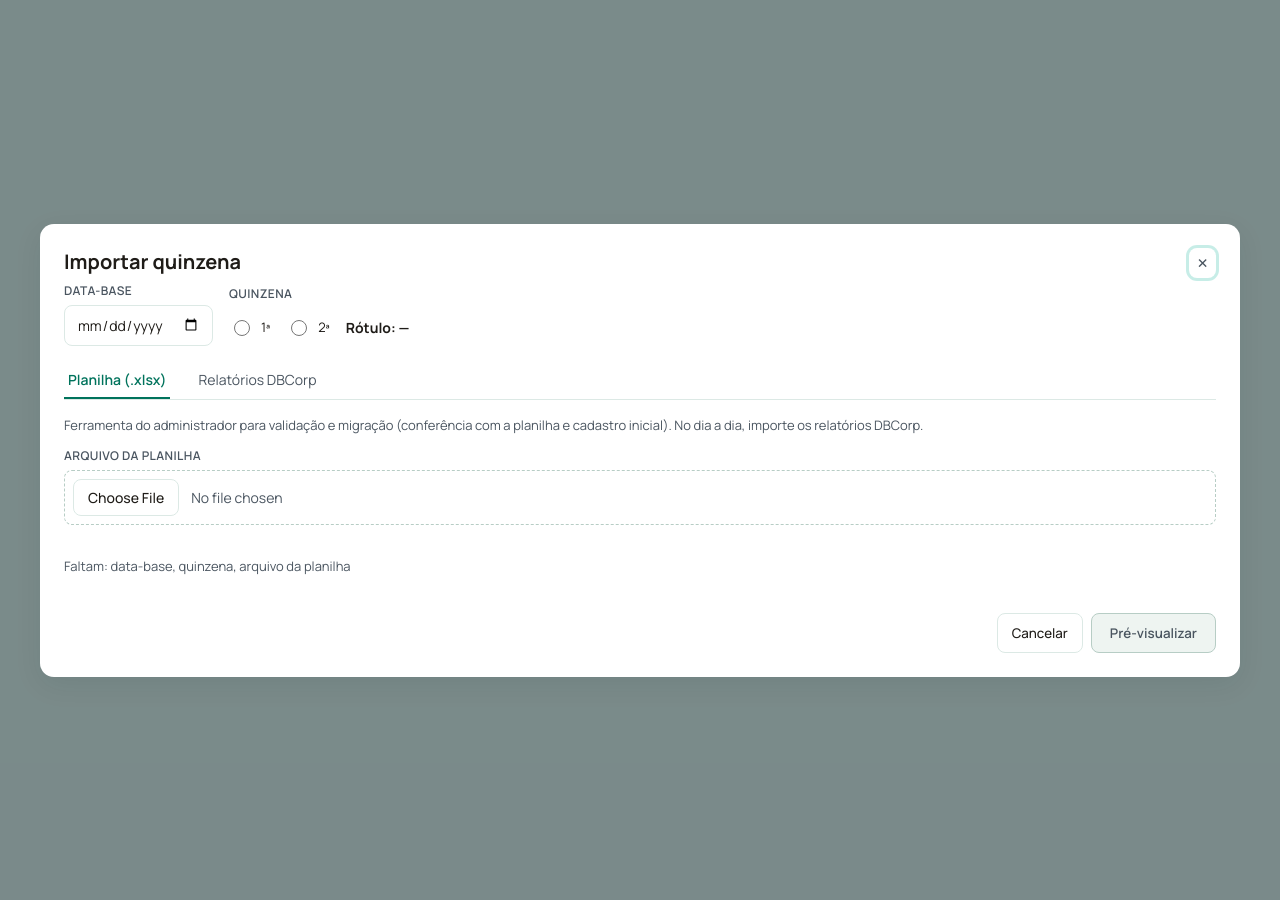
Test case: ForecastImportModal - campos e rotulo › cada slot tem label ligada ao input de arquivo .xlsx
Click the tab "Relatórios DBCorp" at [258, 380], box x1=194 y1=362 x2=320 y2=398
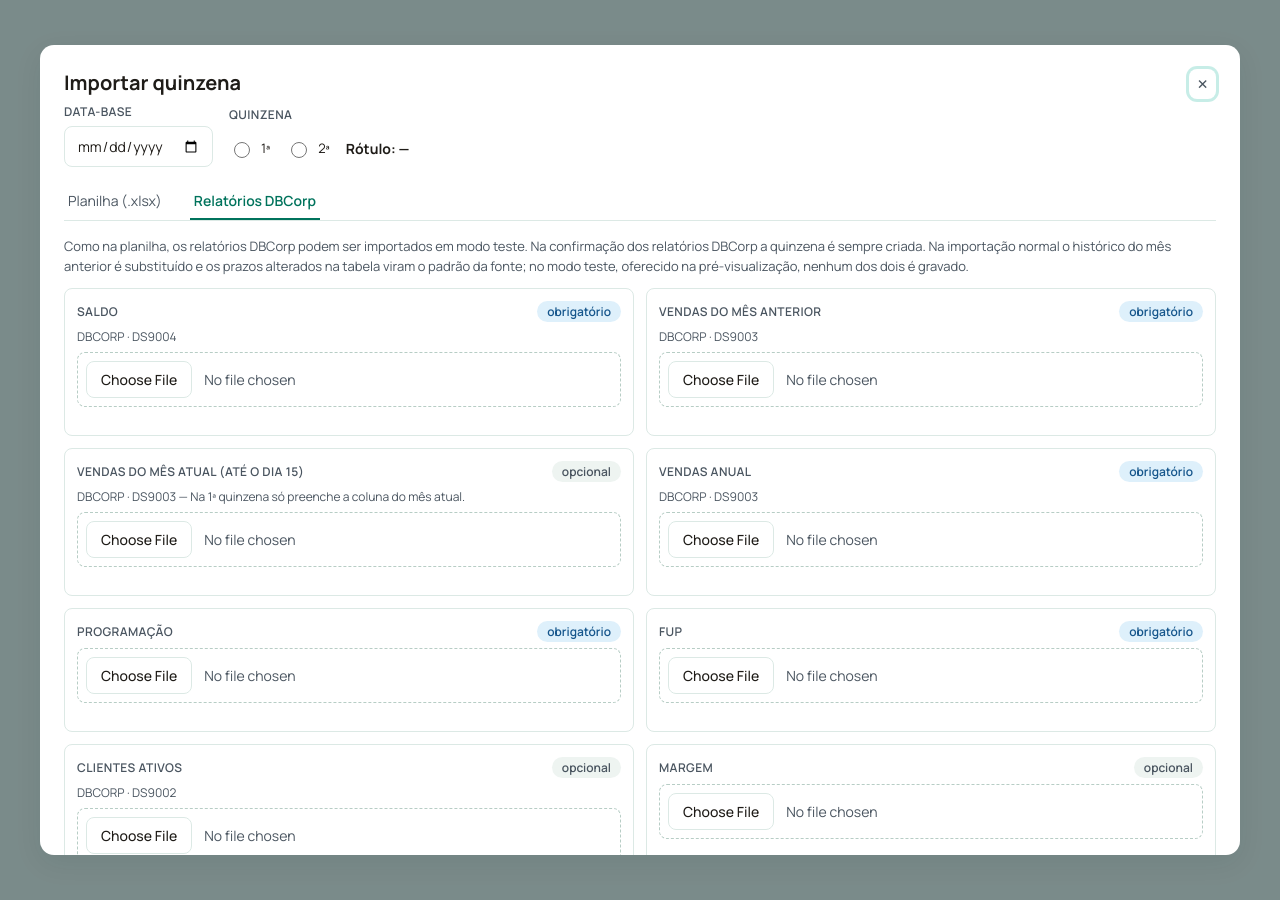
Expected: the text "obrigatório" is shown 5 times, x1=537 y1=301 x2=621 y2=322; x1=1119 y1=301 x2=1203 y2=322; x1=1119 y1=461 x2=1203 y2=482; x1=537 y1=621 x2=621 y2=642; x1=1119 y1=621 x2=1203 y2=642
Expected: the text "opcional" is shown 3 times, x1=552 y1=461 x2=621 y2=482; x1=552 y1=757 x2=621 y2=778; x1=1134 y1=757 x2=1203 y2=778
